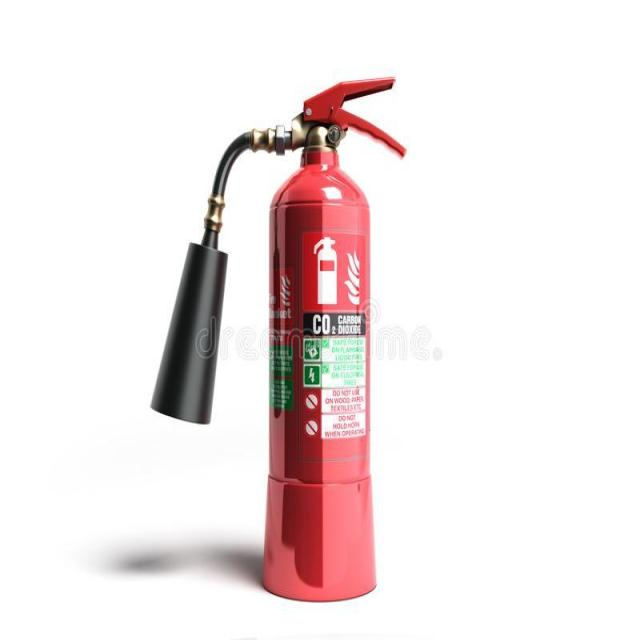fire_extinguisher: (145, 73, 412, 610)
